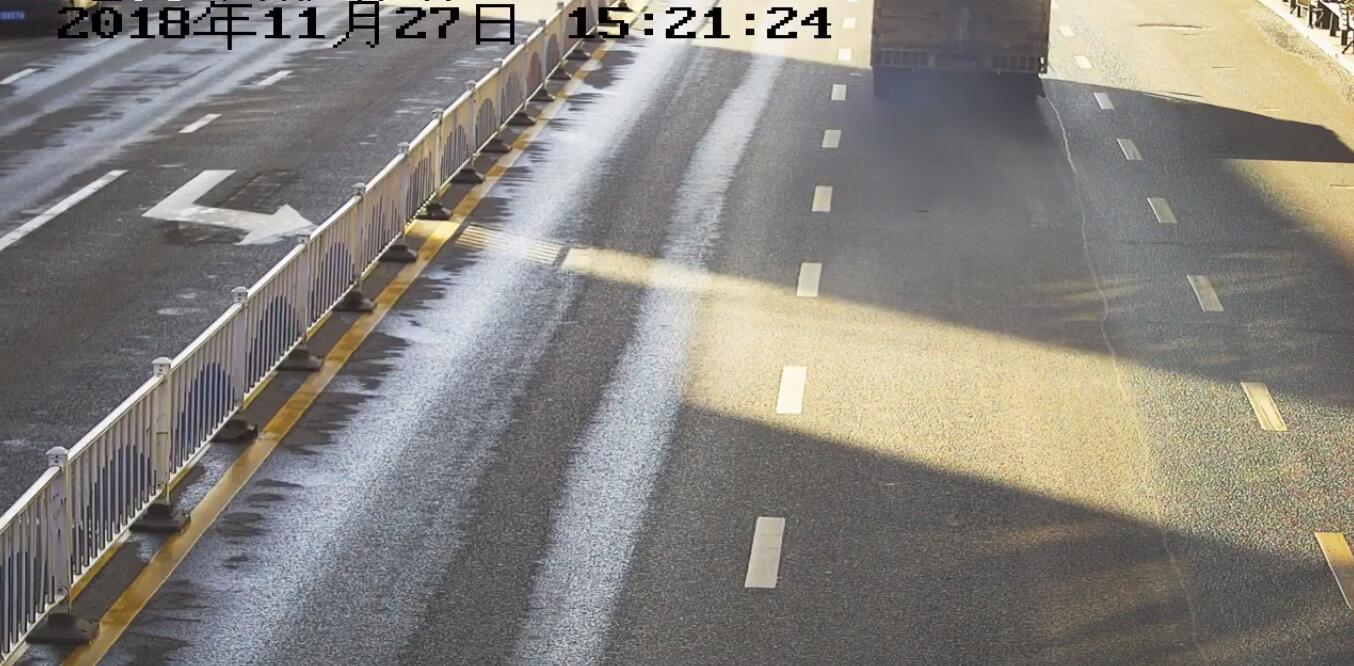smoke: (879, 92, 1057, 201)
